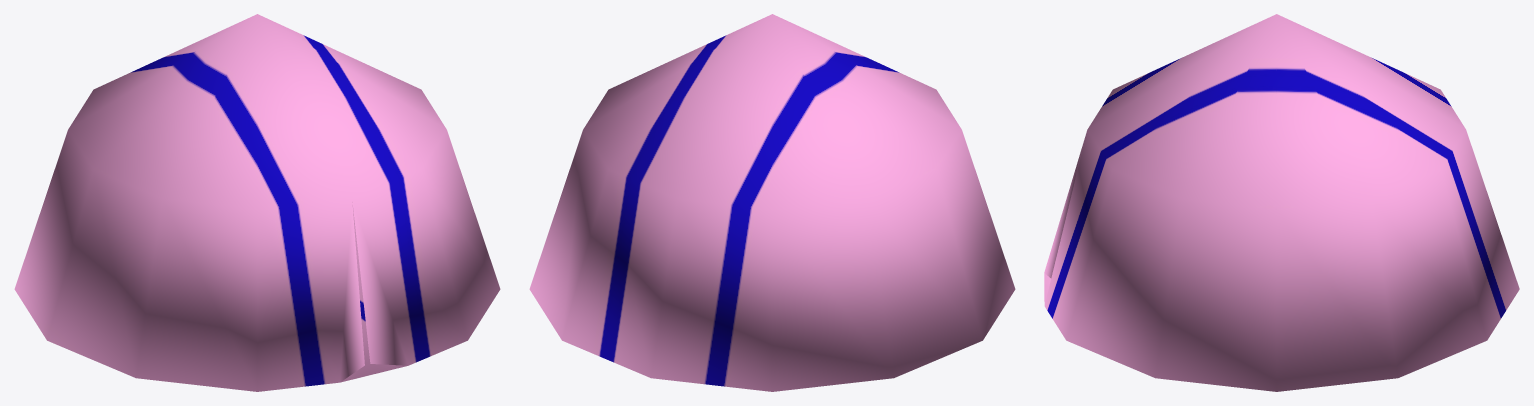
3 views of the same model, side by side, from view 1: azimuth 30°, elevation 25°; view 2: azimuth 150°, elevation 25°; view 3: azimuth 270°, elevation 25° (orthographic).
Visible parts, largest first — view 1: 圓錐體; view 2: 圓錐體; view 3: 圓錐體.
Boxes of the visible parts, <box> form: 圓錐體: <box>14,14,500,391</box>; 圓錐體: <box>529,14,1015,391</box>; 圓錐體: <box>1044,14,1519,391</box>.
Size of the model in its own units: 80 by 78.28 by 50.
Materials: 1 (1 with a texture image).
